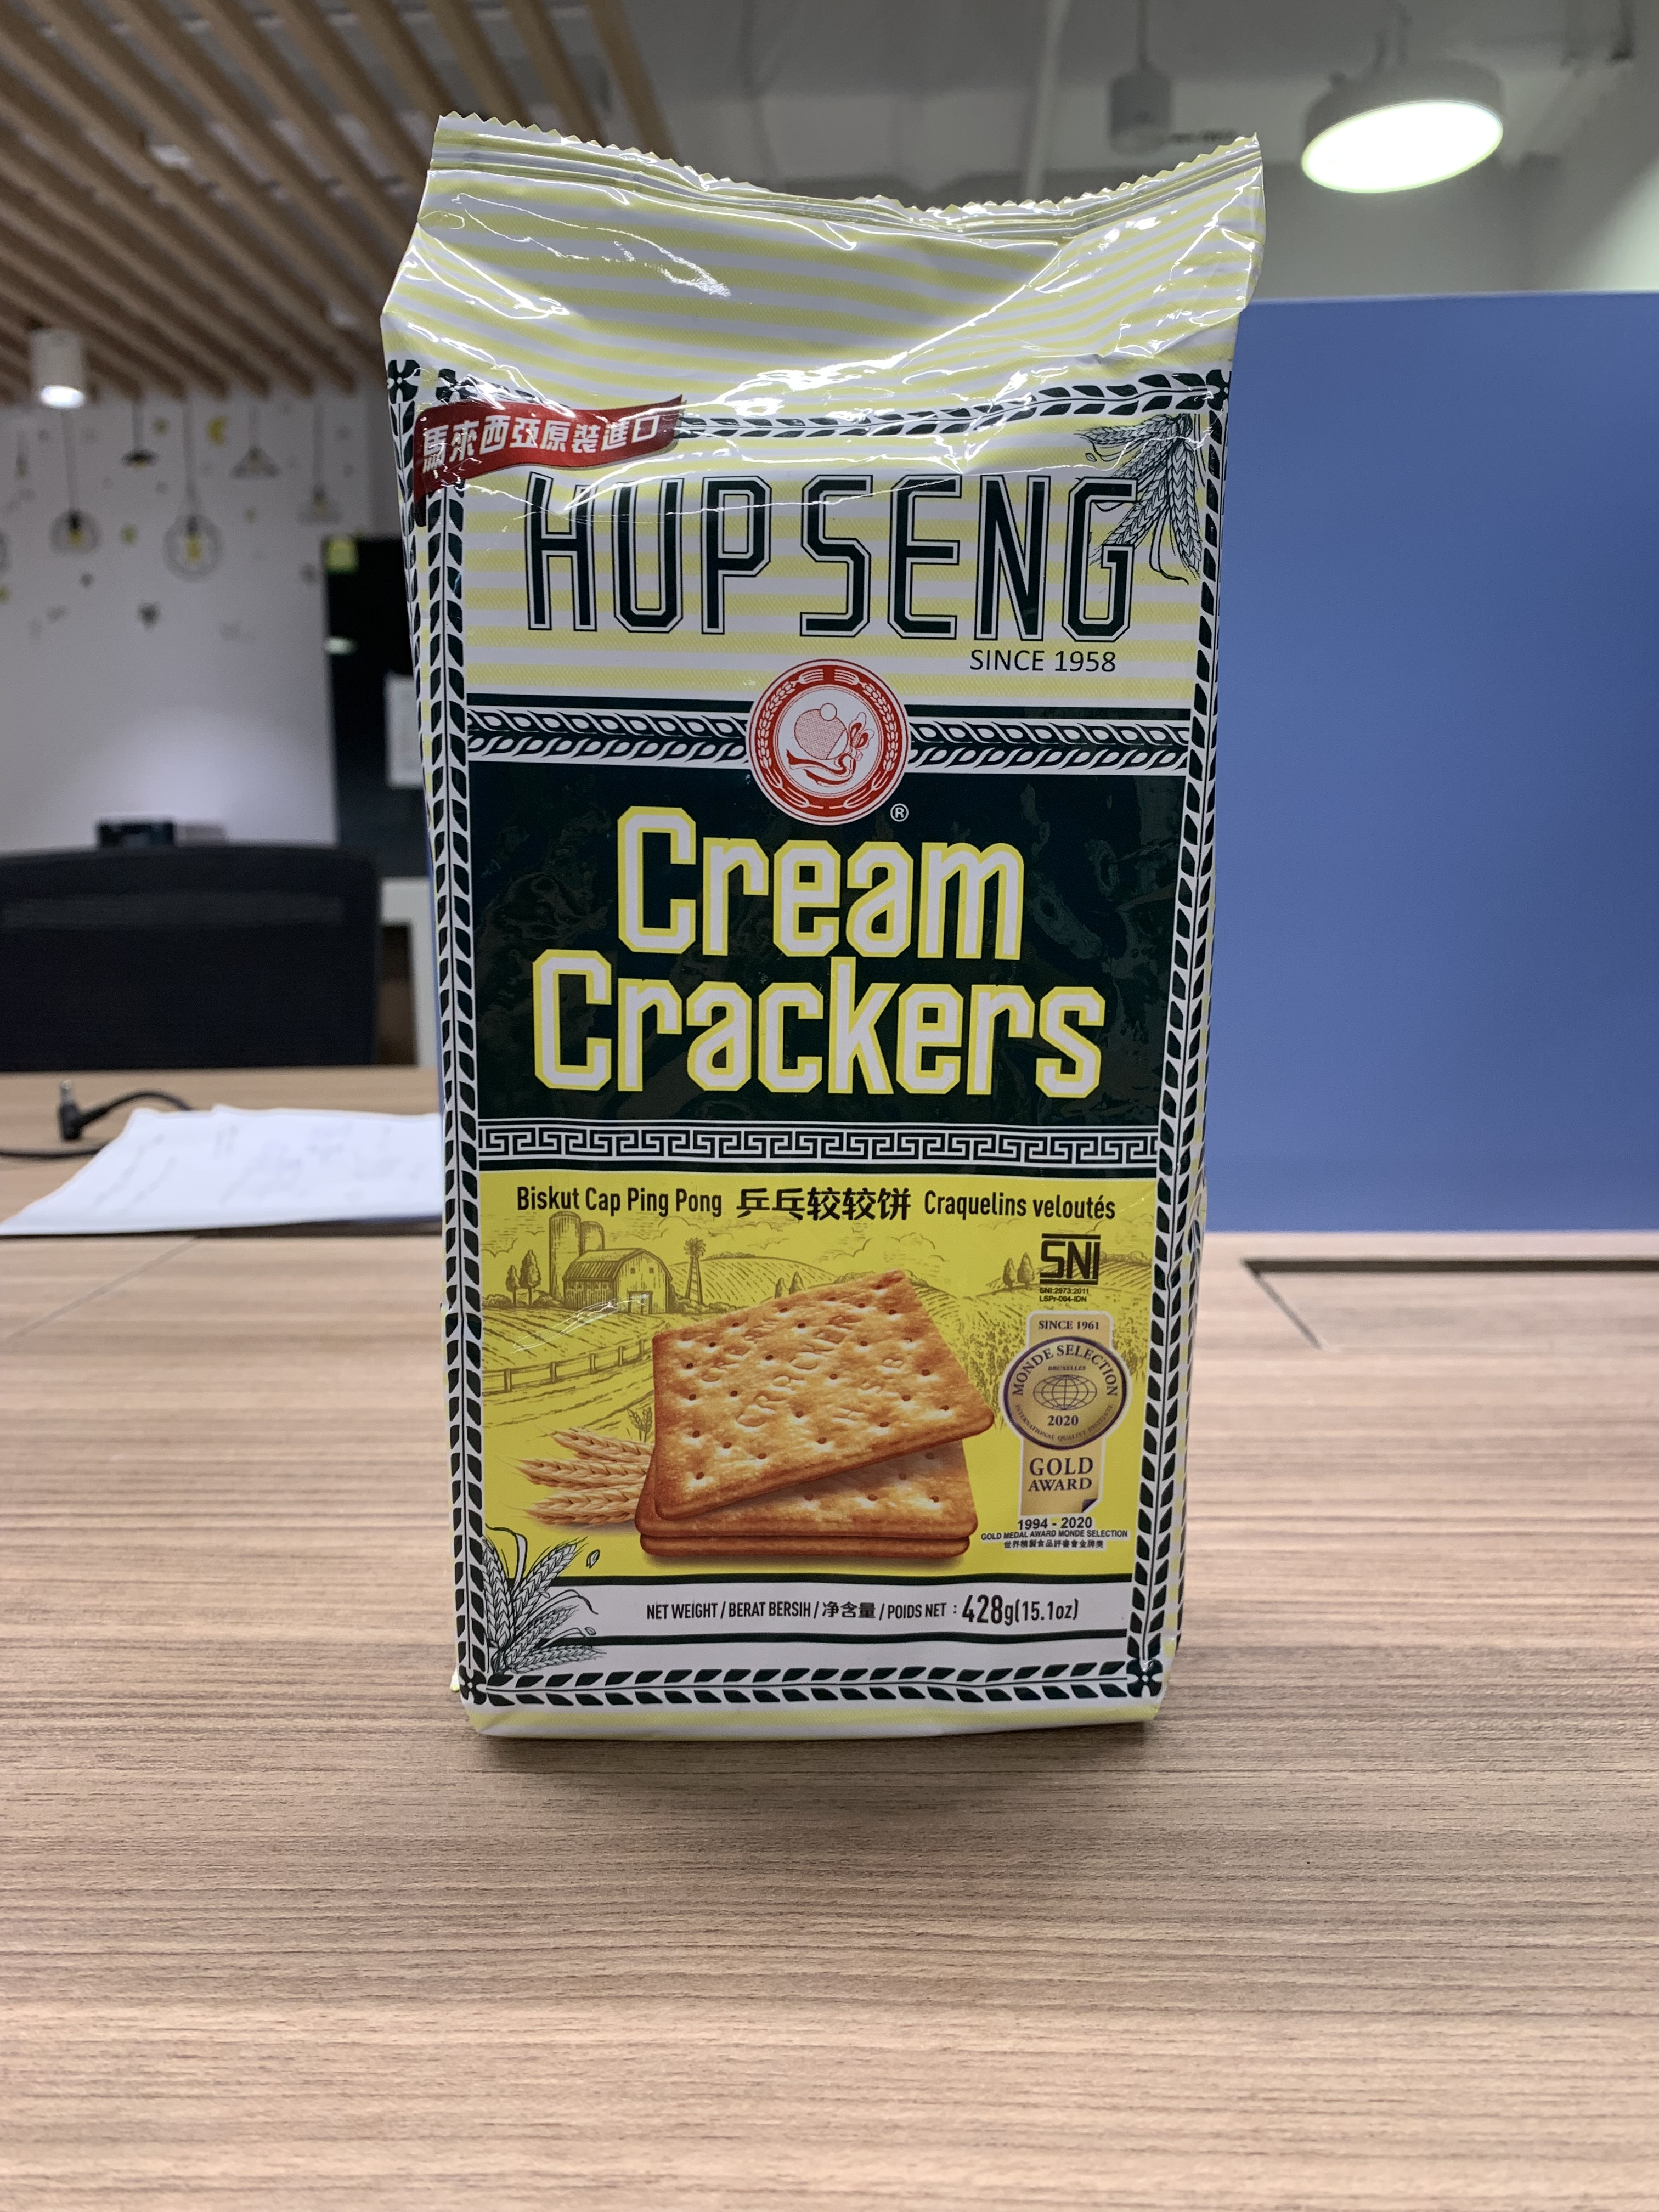crackers: (338, 118, 1281, 1761)
